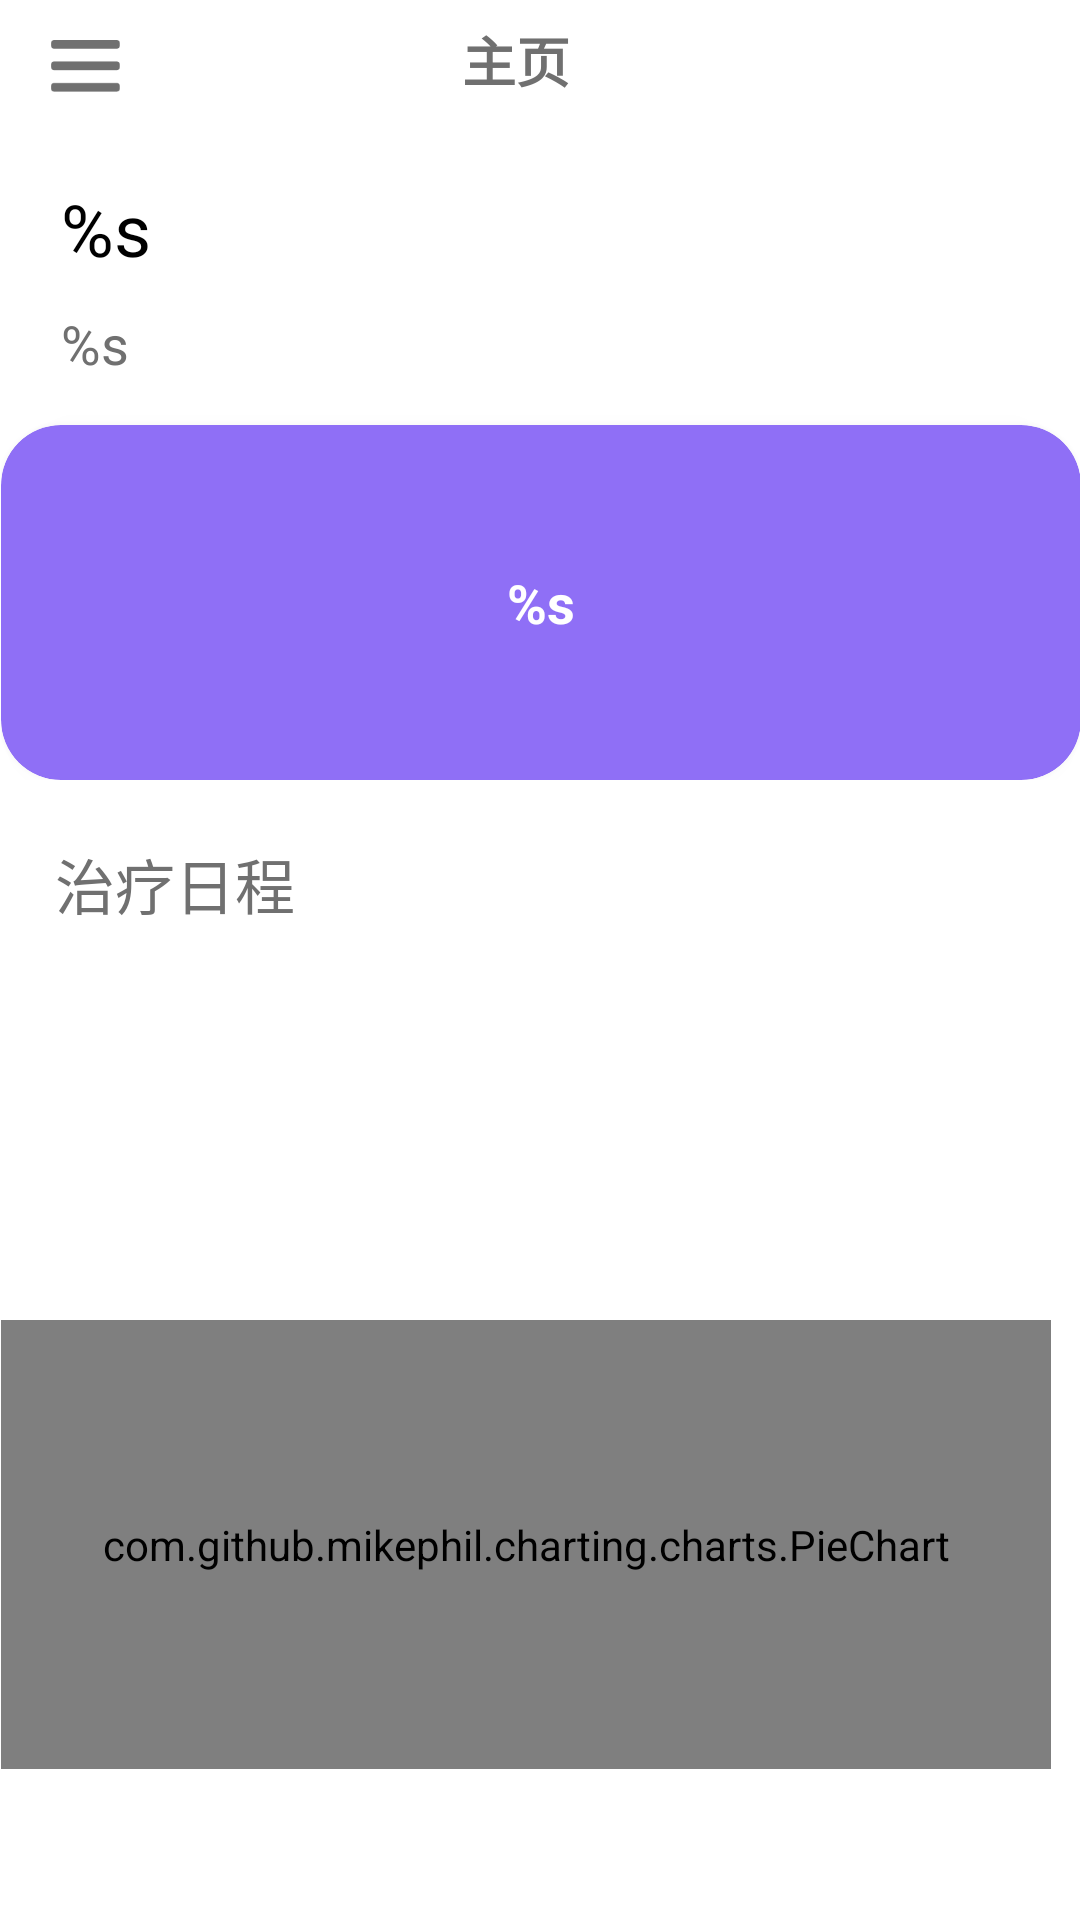

Icon click points for this 1080×1920 phone screenshot, format (x=x, y=y):
sidebar: (x=85, y=66)
